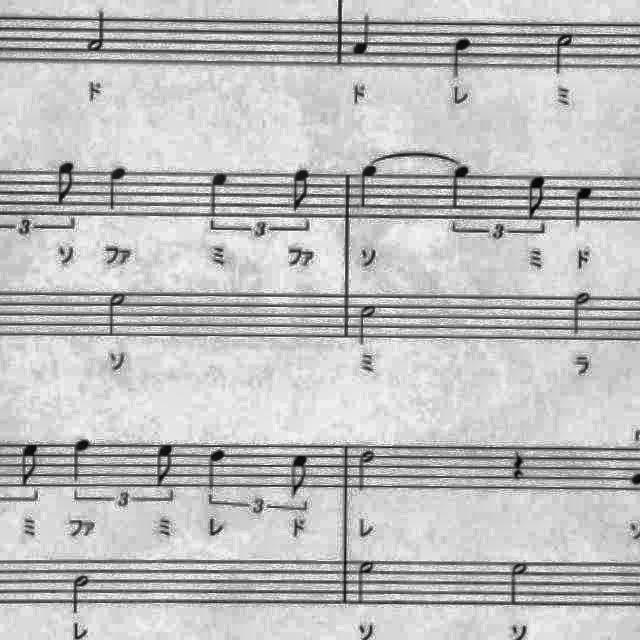Eighth-note: (521, 171, 553, 225), (284, 162, 316, 216), (15, 438, 47, 492), (151, 437, 183, 489), (284, 450, 314, 502), (51, 160, 81, 210)
Half-note: (80, 4, 114, 56), (550, 26, 582, 78), (351, 557, 381, 611), (568, 286, 596, 342), (102, 288, 132, 340), (505, 558, 535, 610), (352, 299, 382, 349), (352, 444, 380, 494), (67, 570, 96, 618)
Quarter-note: (566, 180, 600, 234), (203, 166, 234, 222), (352, 160, 384, 214), (64, 434, 96, 486), (200, 442, 232, 494), (447, 32, 479, 82), (348, 9, 380, 58), (102, 162, 130, 216), (445, 162, 475, 212)
Quarter-rest: (504, 444, 532, 488)
